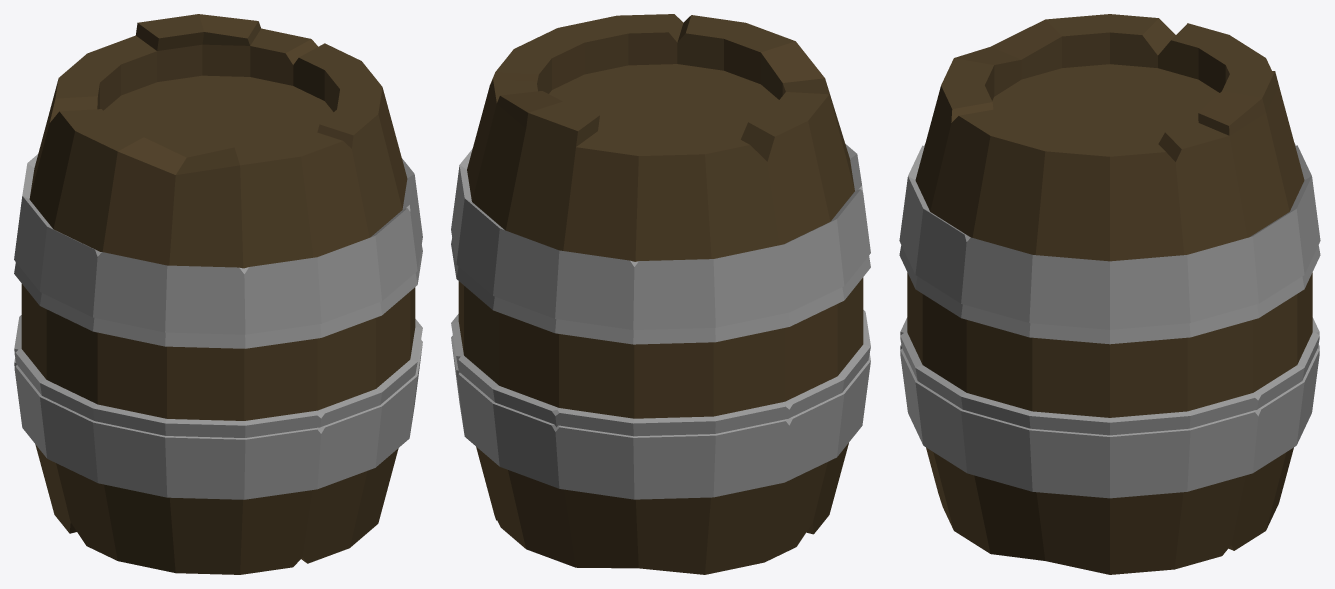
The model's file is Barrel.glb.
3 renders of one model, left to right at view 1: azimuth 30°, elevation 25°; view 2: azimuth 150°, elevation 25°; view 3: azimuth 270°, elevation 25°, orthographic. The views are drawn at different scales.
Visible parts, largest first — view 1: Barrel, Metal Rings, Barrel with Rings; view 2: Barrel, Metal Rings, Barrel with Rings; view 3: Barrel, Metal Rings, Barrel with Rings.
Boxes of the visible parts, x1,y1,x2,y2 form: Barrel: [21, 14, 415, 574]; Metal Rings: [14, 154, 422, 499]; Barrel with Rings: [14, 245, 422, 437]; Barrel: [458, 14, 863, 574]; Metal Rings: [451, 144, 870, 499]; Barrel with Rings: [451, 238, 870, 436]; Barrel: [907, 14, 1312, 574]; Metal Rings: [899, 143, 1320, 498]; Barrel with Rings: [899, 245, 1320, 435].
Size of the model in its own units: 2.49 by 2.83 by 2.49.
